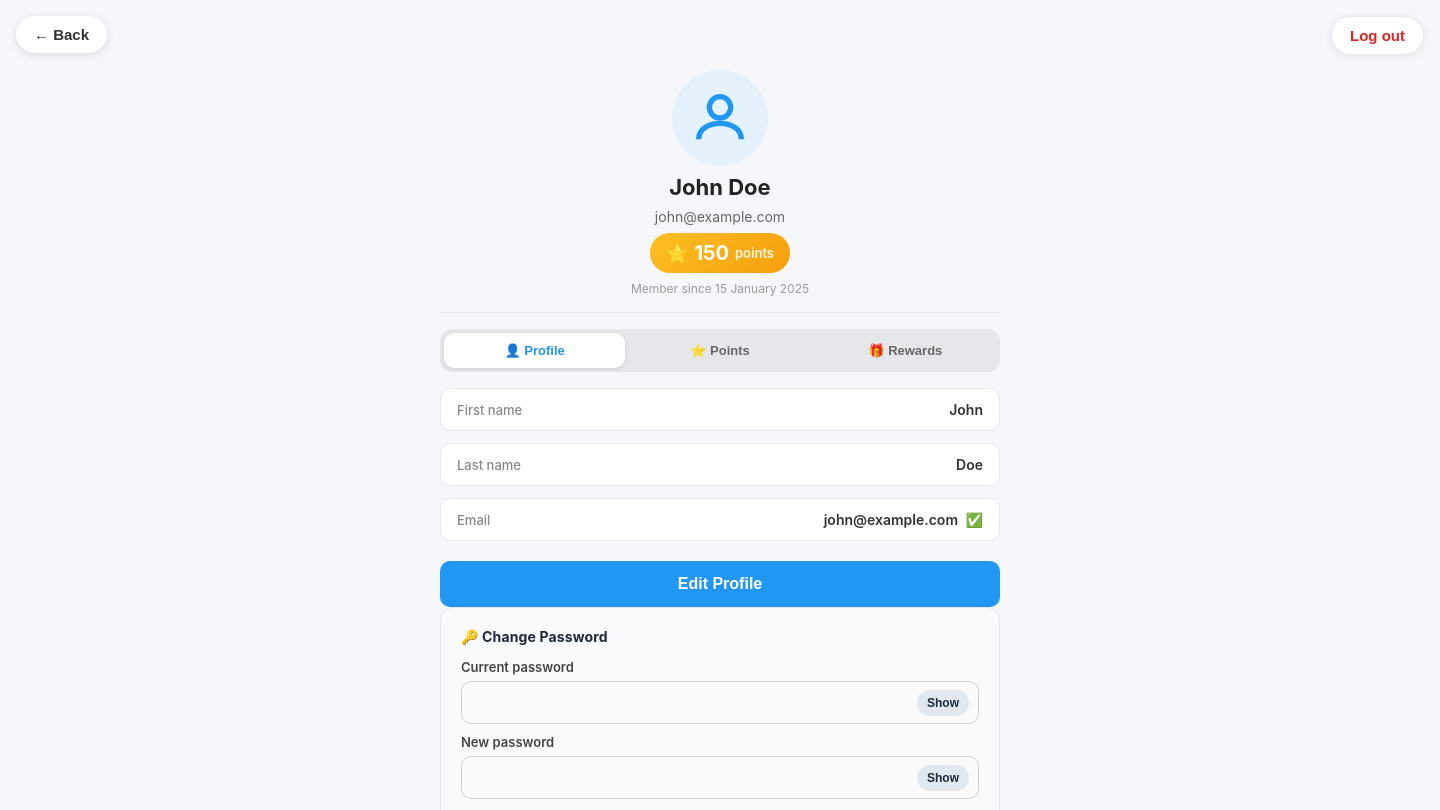
Test: Profile Component › can switch to rewards tab
Click the tab "🎁 Rewards" at (905, 350), box x1=815 y1=333 x2=996 y2=368
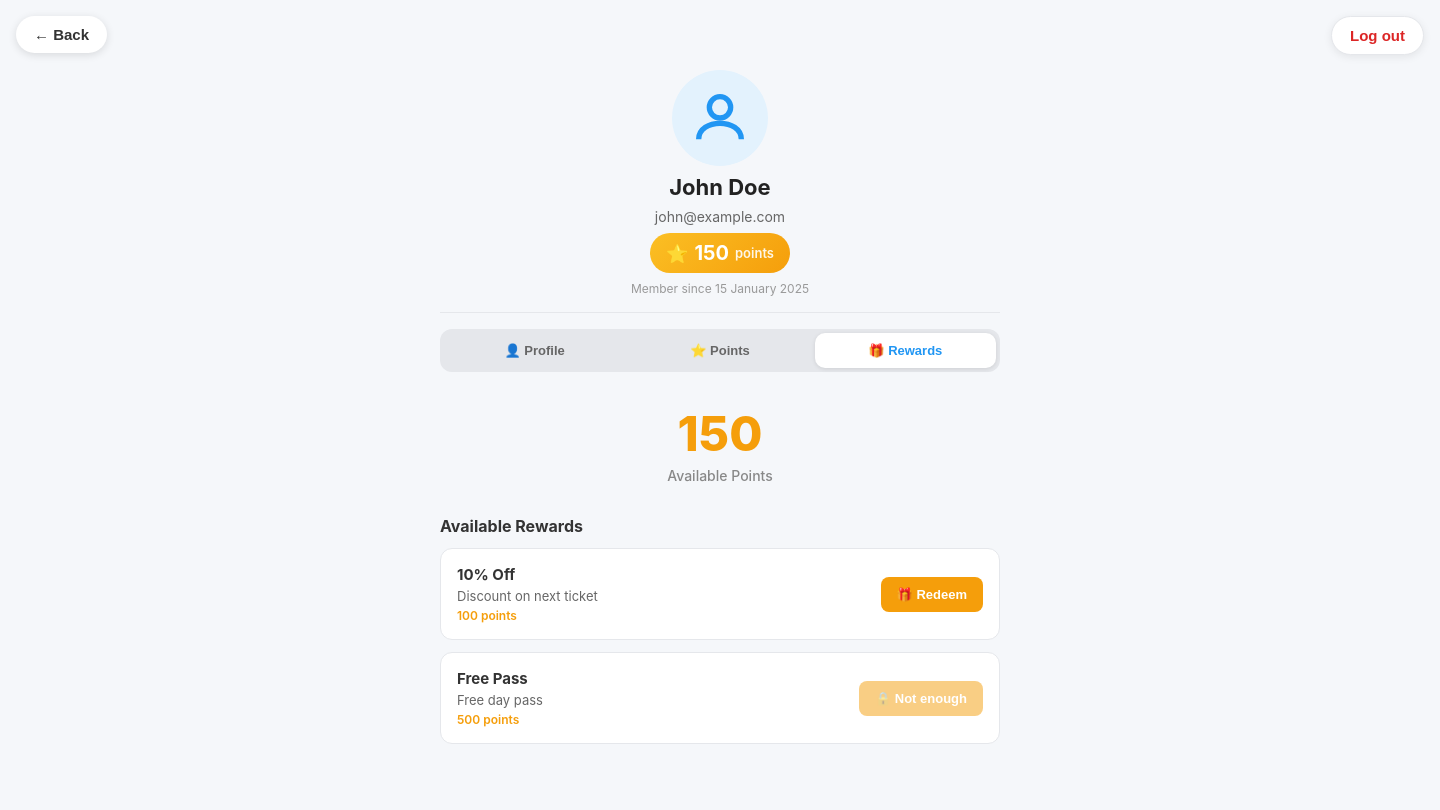
expect the heading "Available Rewards" is shown: met, box x1=440 y1=516 x2=583 y2=536
expect the heading "10% Off" is shown: met, box x1=457 y1=565 x2=515 y2=584
expect the heading "Free Pass" is shown: met, box x1=457 y1=669 x2=528 y2=688
